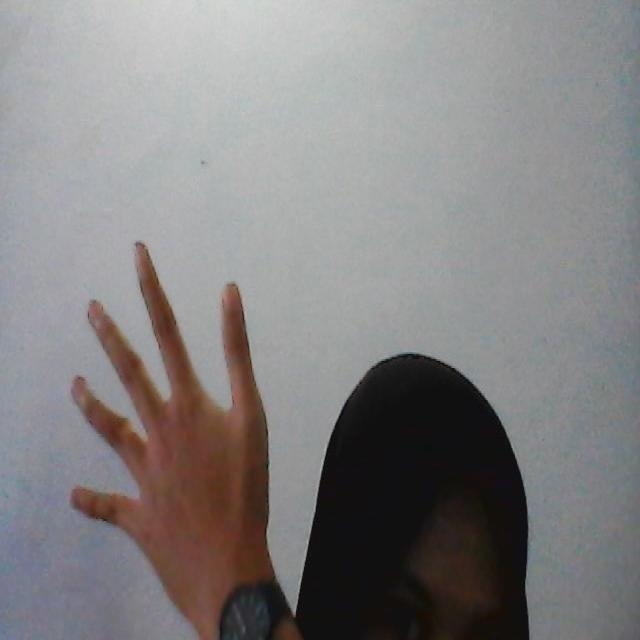hand: (72, 233, 273, 633)
